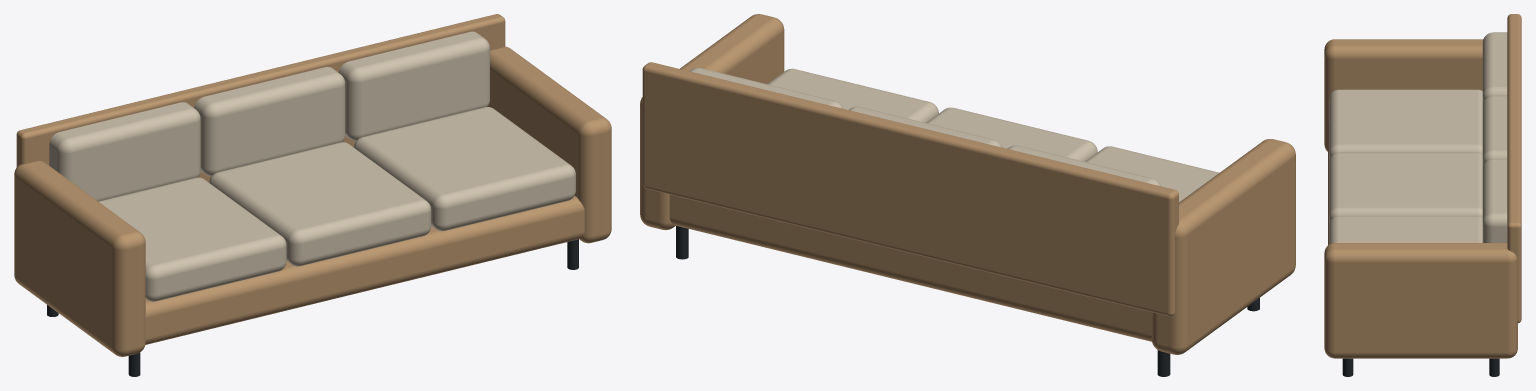
Rendered from sofa-2.glb.
3 views of the same model, side by side, from view 1: azimuth 30°, elevation 25°; view 2: azimuth 150°, elevation 25°; view 3: azimuth 270°, elevation 25° (orthographic). The views are drawn at different scales.
Parts seen in each view (by area): view 1: sofa:2:archviz; view 2: sofa:2:archviz; view 3: sofa:2:archviz.
Part boxes in pixels (box(x1,y1,x2,y2)): sofa:2:archviz: box(14, 14, 611, 376); sofa:2:archviz: box(640, 14, 1295, 376); sofa:2:archviz: box(1324, 14, 1521, 376).
Size of the model in its own units: 2.18 by 0.75 by 0.8349.
